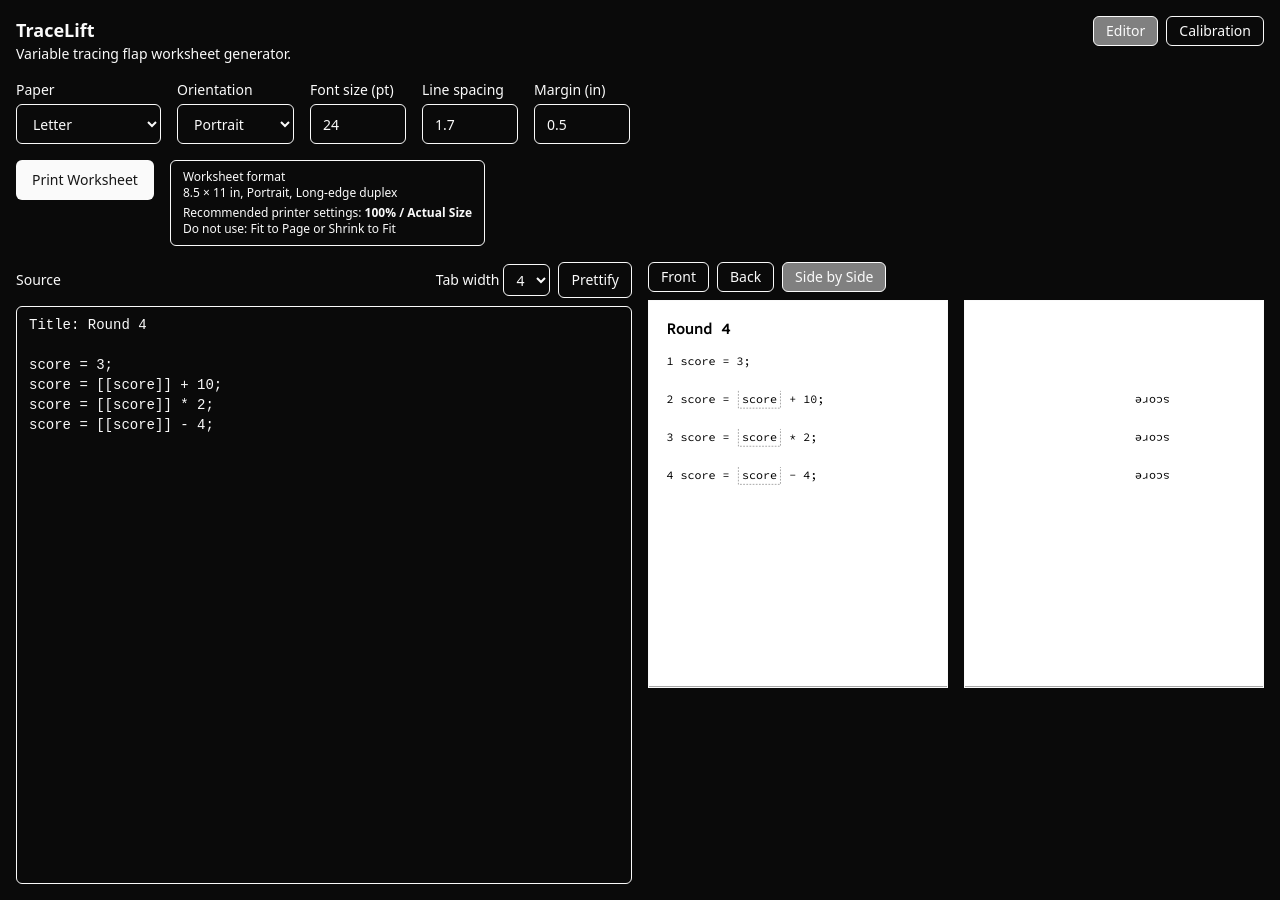
Test case: App › keeps the field editable while clearing it, but falls back to the minimum on blur
Clear the number field labelled "Font size (pt)" at (358, 124), box [310,104,406,144]
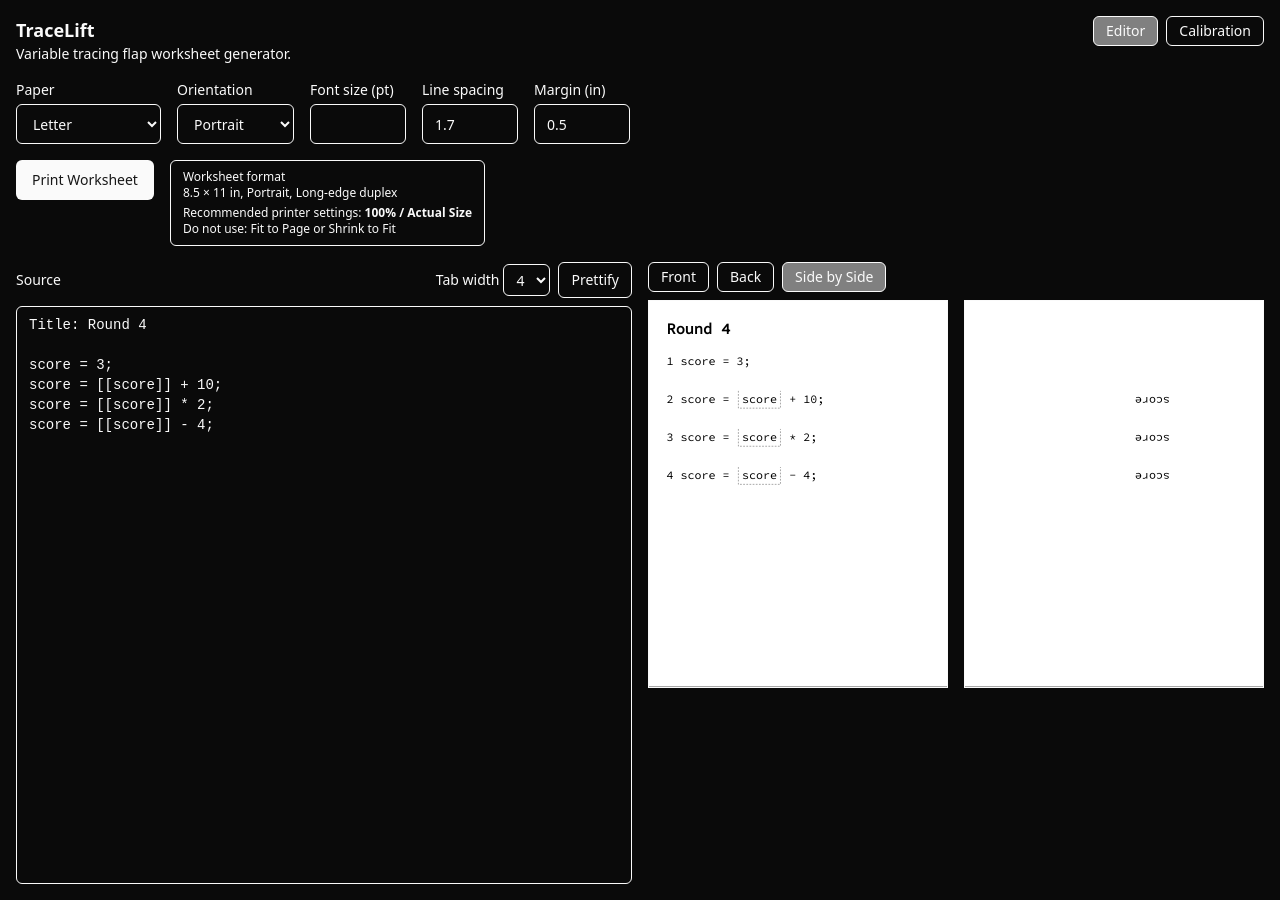
Leave the number field labelled "Font size (pt)", box [310,104,406,144]
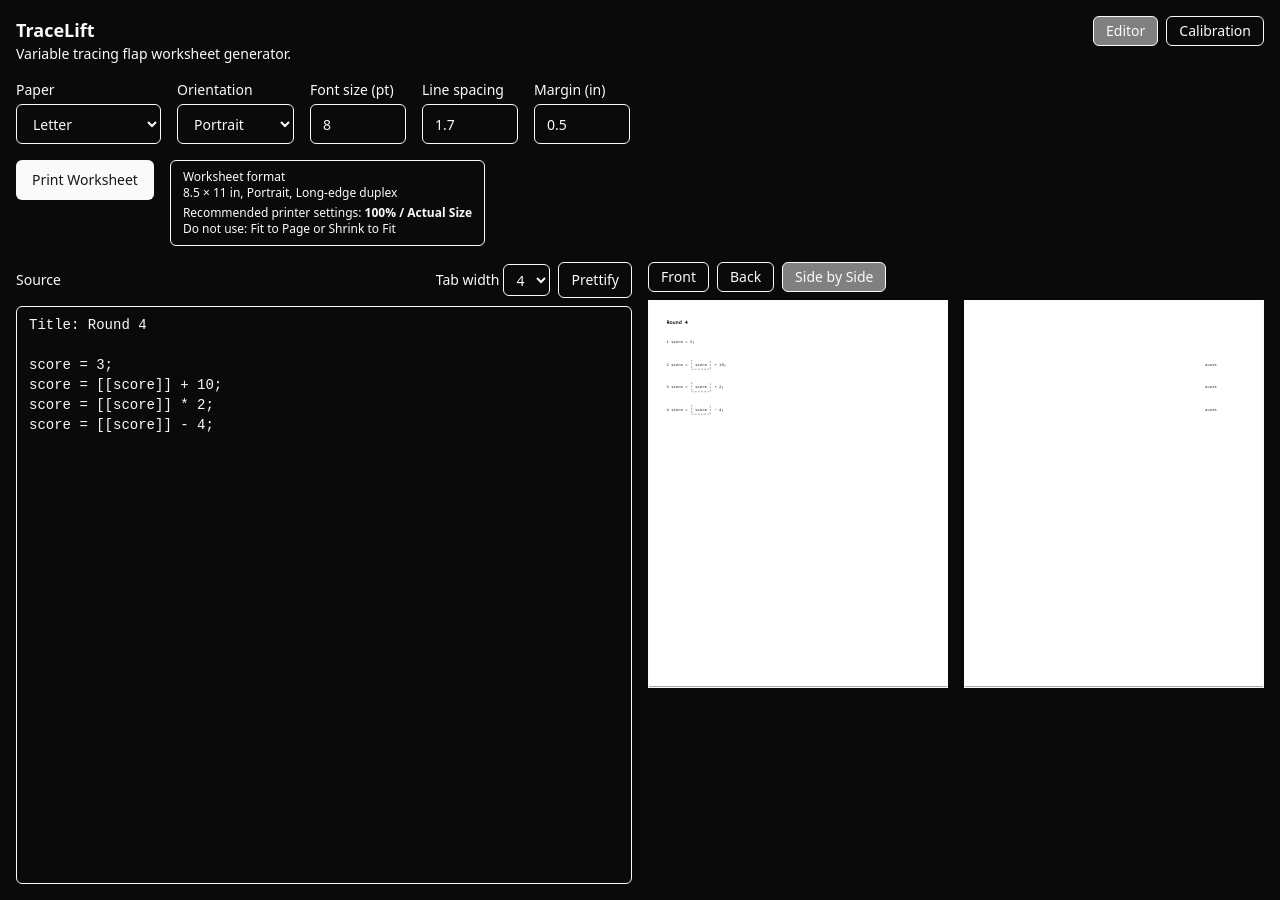
Expected: the number field labelled "Font size (pt)" holds "8"
Replace the text in the number field labelled "Font size (pt)" with "-100" at (358, 124), box [310,104,406,144]
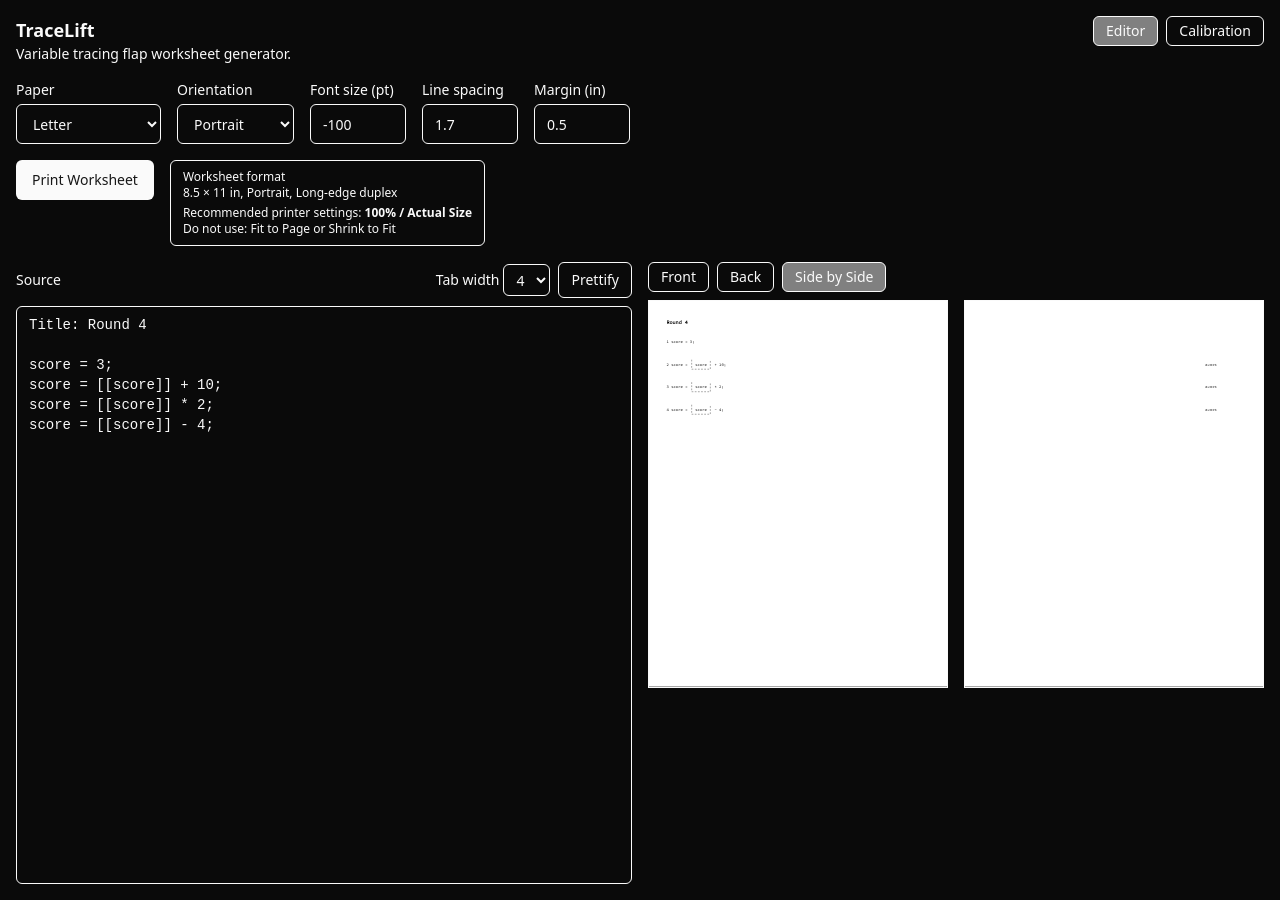
Leave the number field labelled "Font size (pt)", box [310,104,406,144]
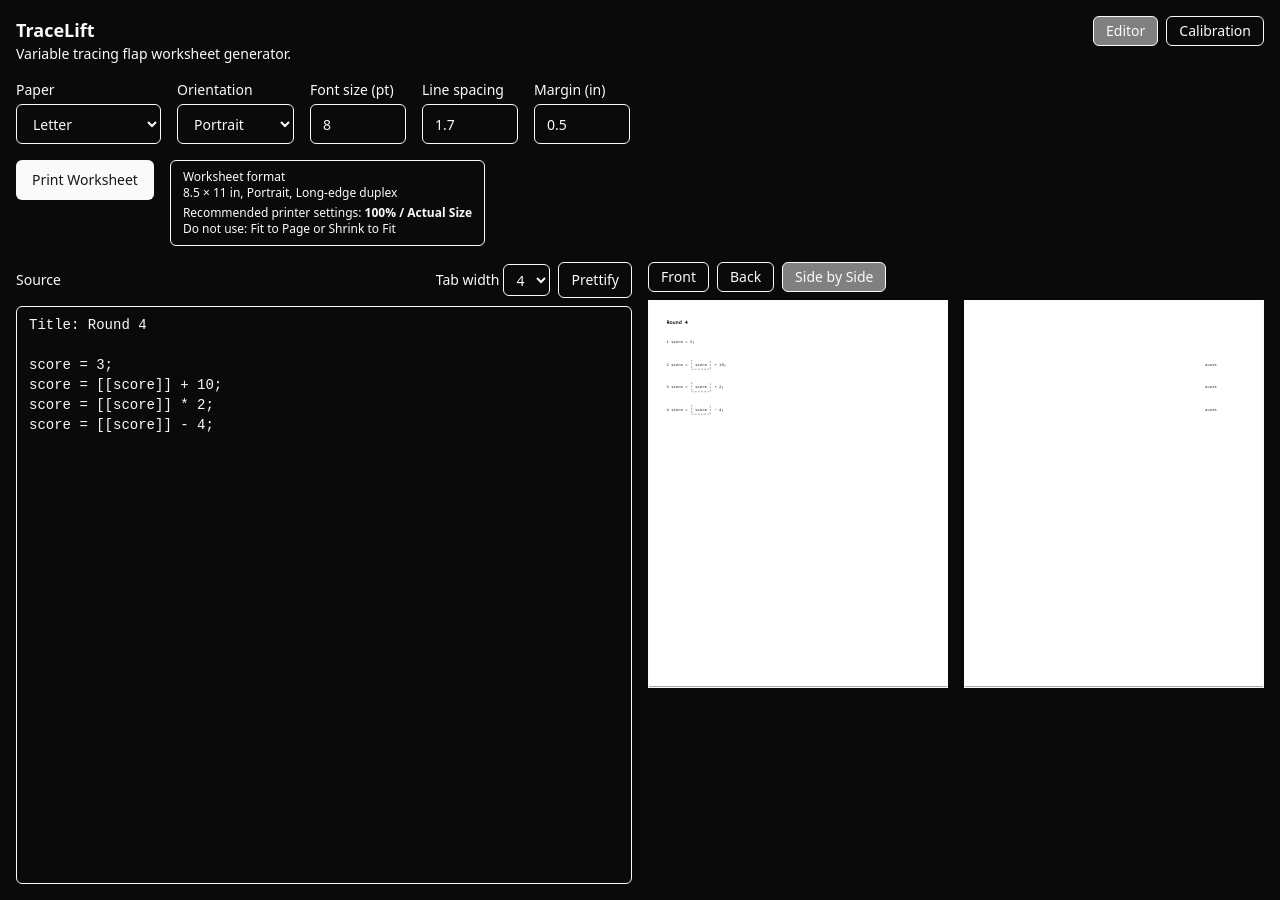
Expected: the number field labelled "Font size (pt)" holds "8", [310,104,406,144]
